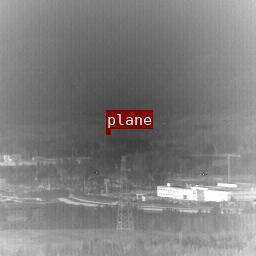plane: (106, 129, 110, 132)
